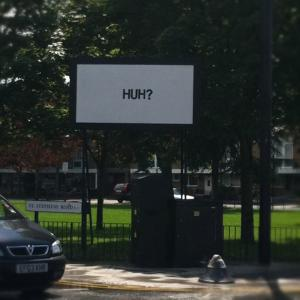Vehicle-registration-plate: (16, 264, 49, 274)
